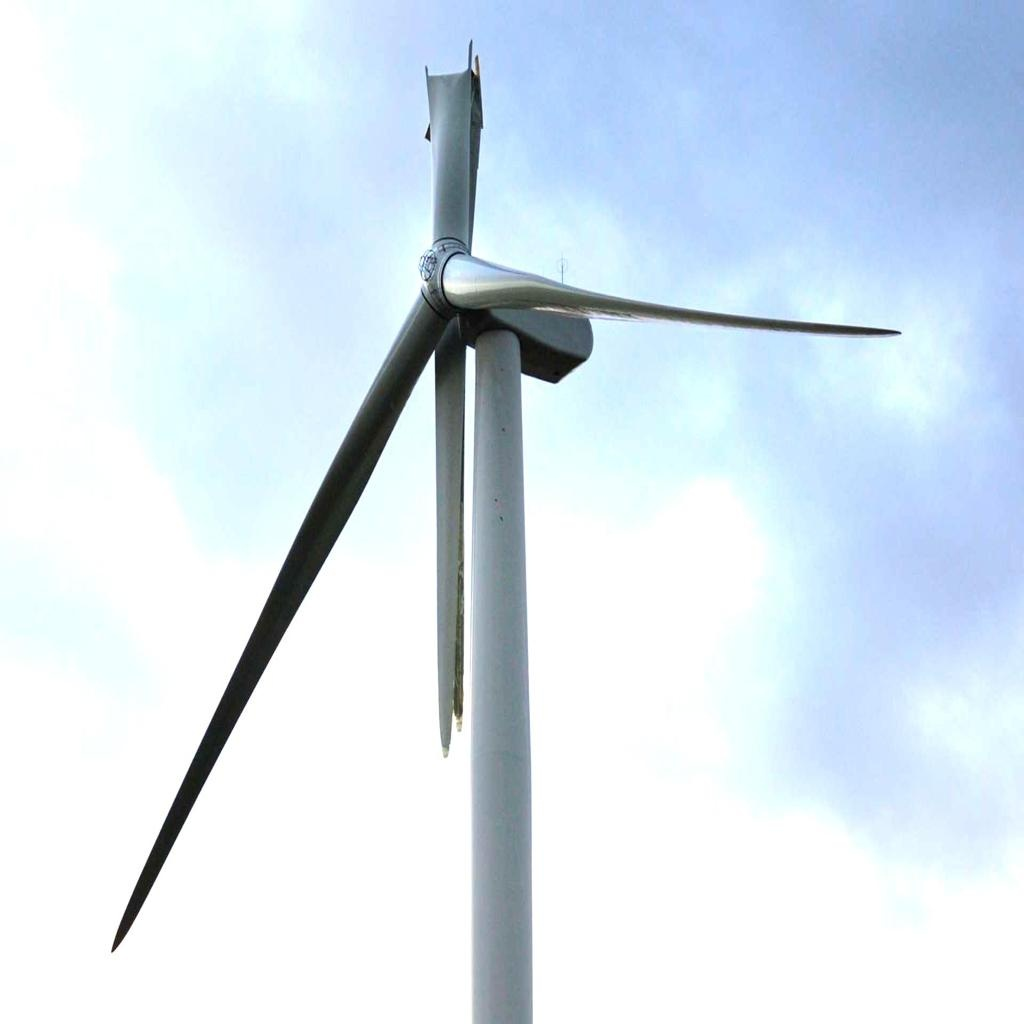crack: (391, 17, 512, 731)
